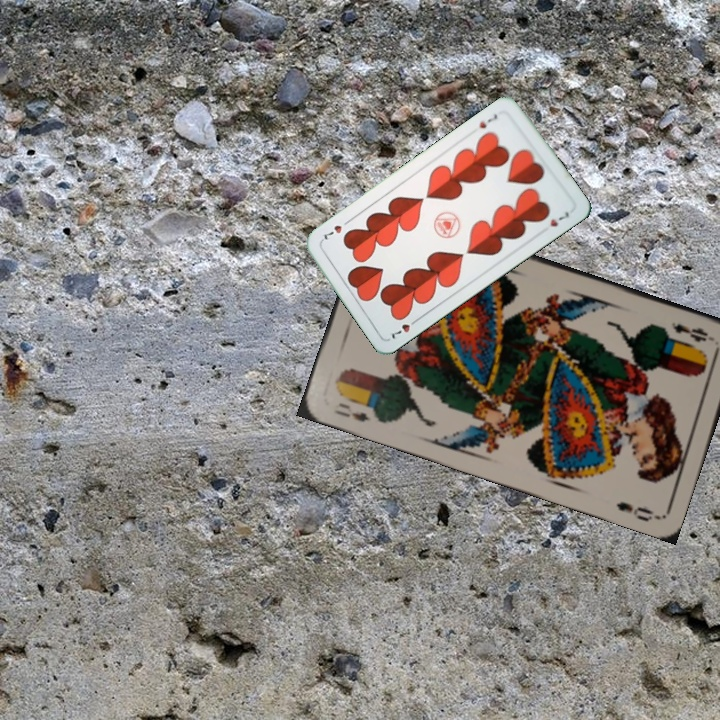EO: (667, 317, 718, 345), (330, 398, 374, 425)
H7: (387, 314, 421, 342), (475, 109, 500, 131)
